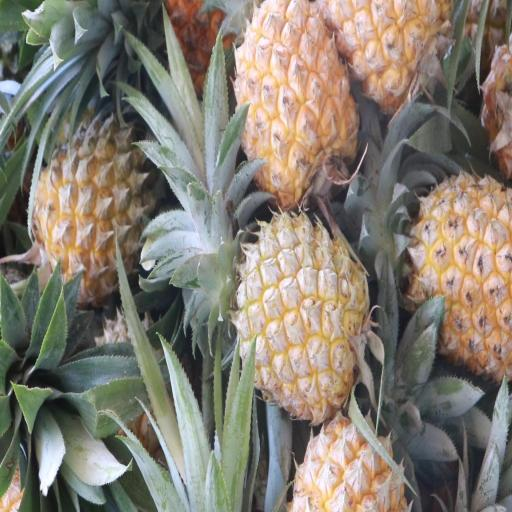------------------------------: (32, 128, 157, 306)
Pineapple - v8 v1: (235, 207, 366, 421), (232, 0, 359, 202), (406, 169, 512, 379), (294, 404, 421, 512)
